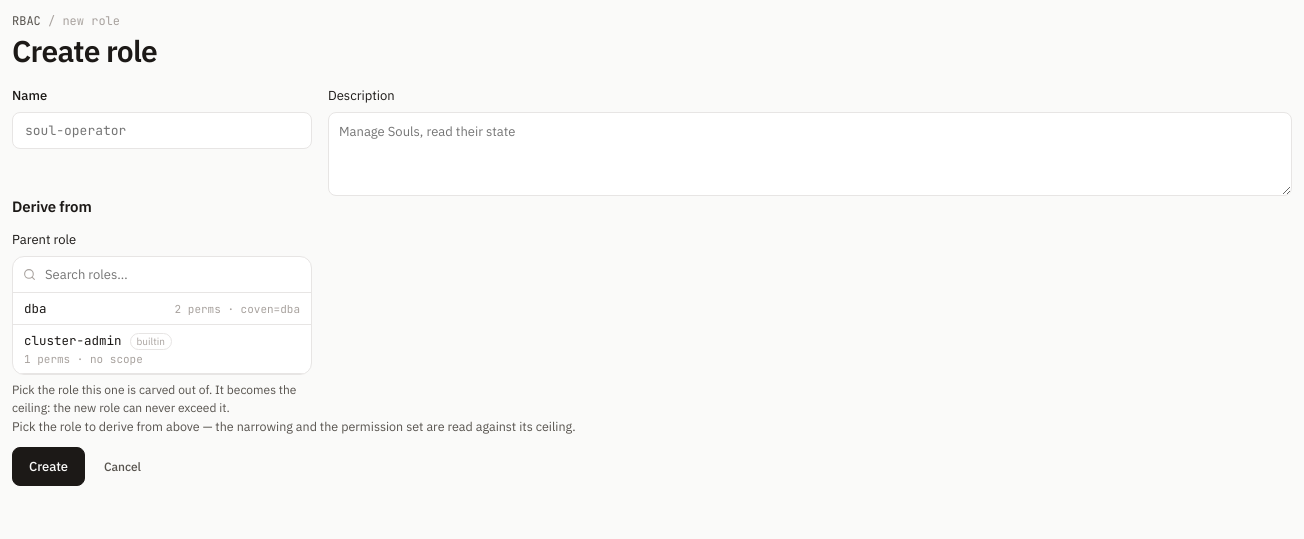
Test: CreateRolePage — derived roles (NIM-182) › ★ a parent is REQUIRED — there is no way to build a role out of nothing
The image size is (1304, 539).
Check: the radio button with test id "parent-role-option-dba" is shown, box x1=13 y1=292 x2=311 y2=324
Type "orphan-role" into the field with placeholder "soul-operator".
click(162, 130); type("orphan-role")  # box x1=12 y1=112 x2=312 y2=148
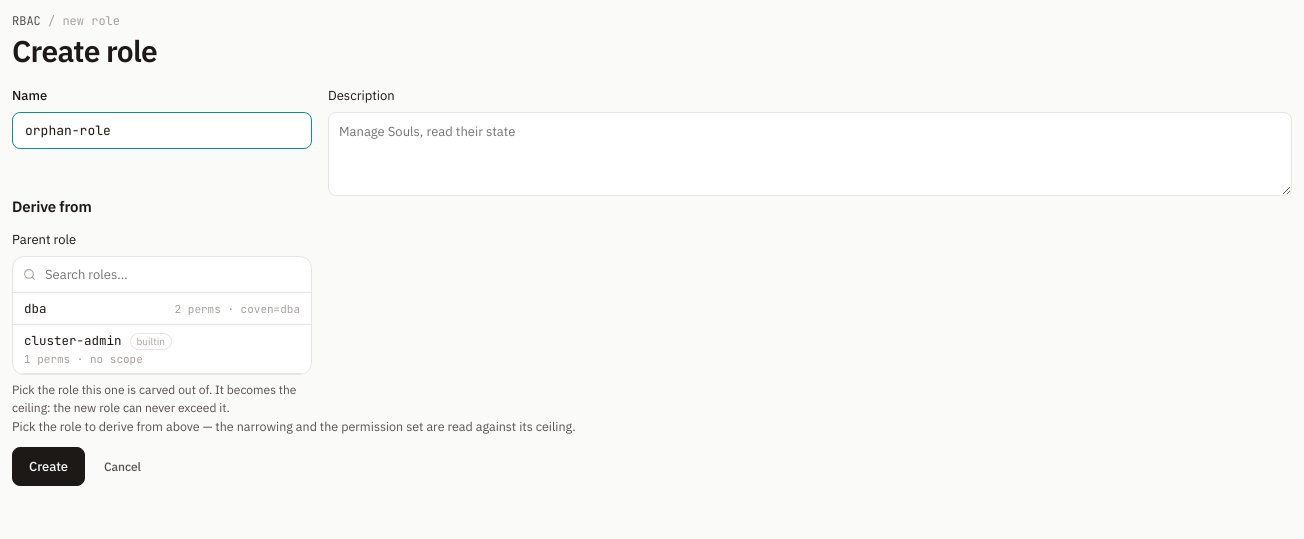
Click the button "Create".
click(48, 467)  # box x1=12 y1=447 x2=85 y2=486
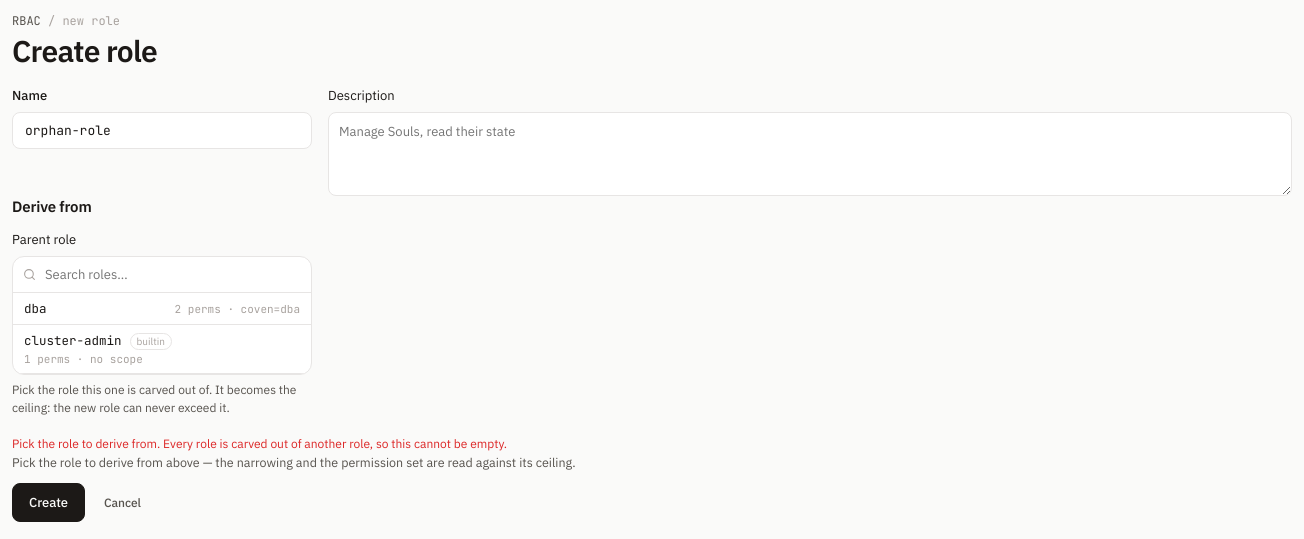
Check: the message with test id "parent-role-error" is shown, box x1=12 y1=436 x2=507 y2=450
